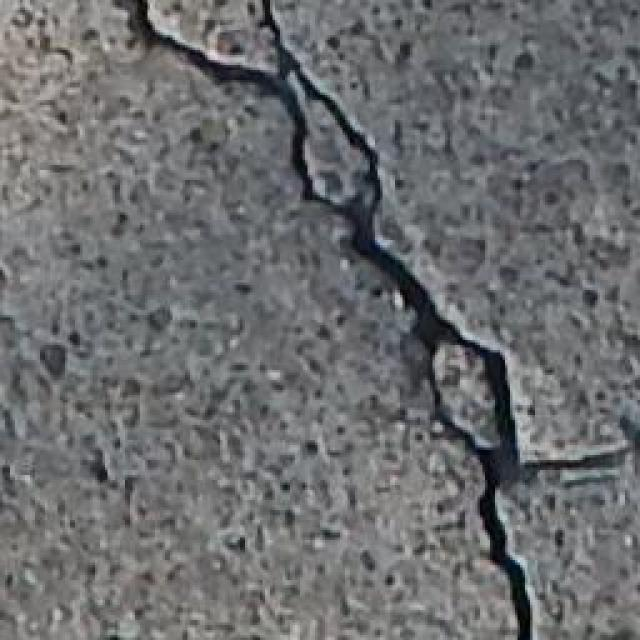concrete-crack: (118, 0, 640, 640)
